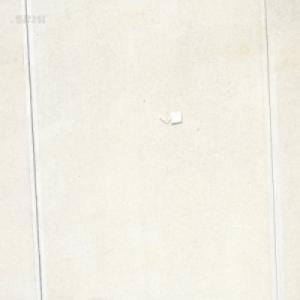LuggageTag: (158, 110, 182, 126)
